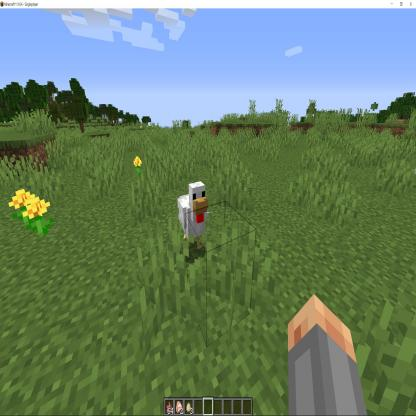minecraft-pigs: (175, 178, 211, 257)
